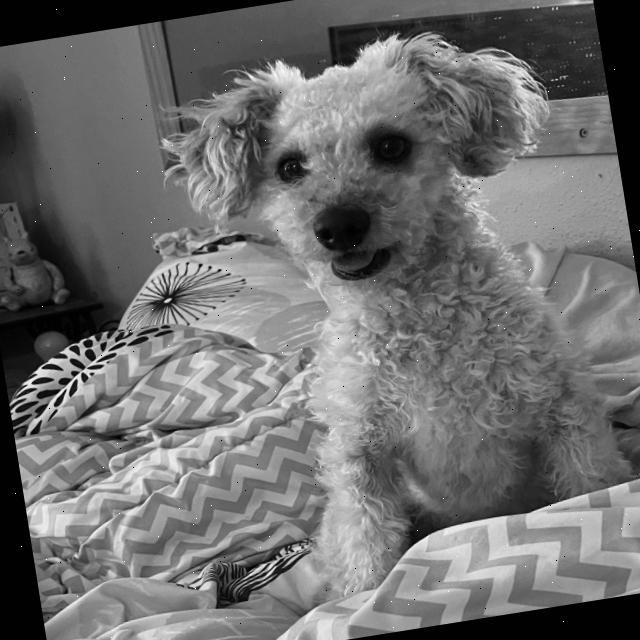Poodle_dog: (125, 0, 586, 342)
